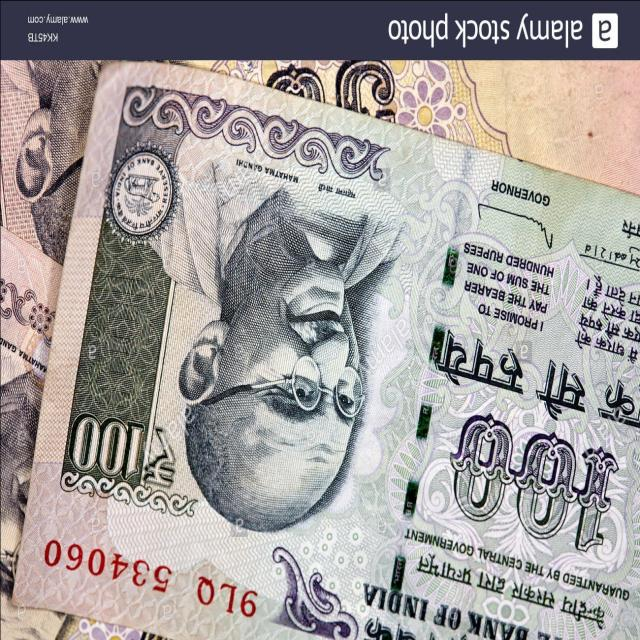100IndianRupees: (13, 56, 640, 640)
